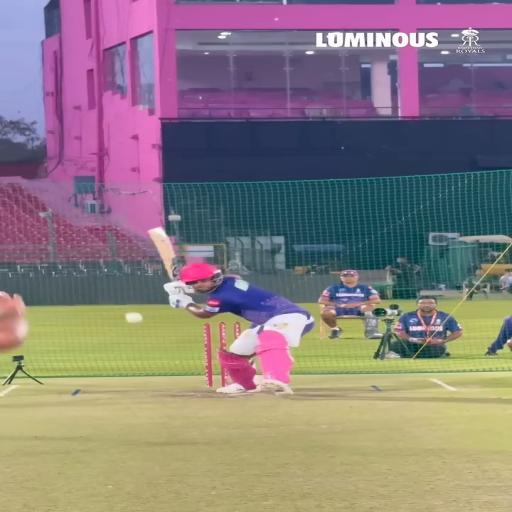Cricket bat: (149, 228, 180, 280)
